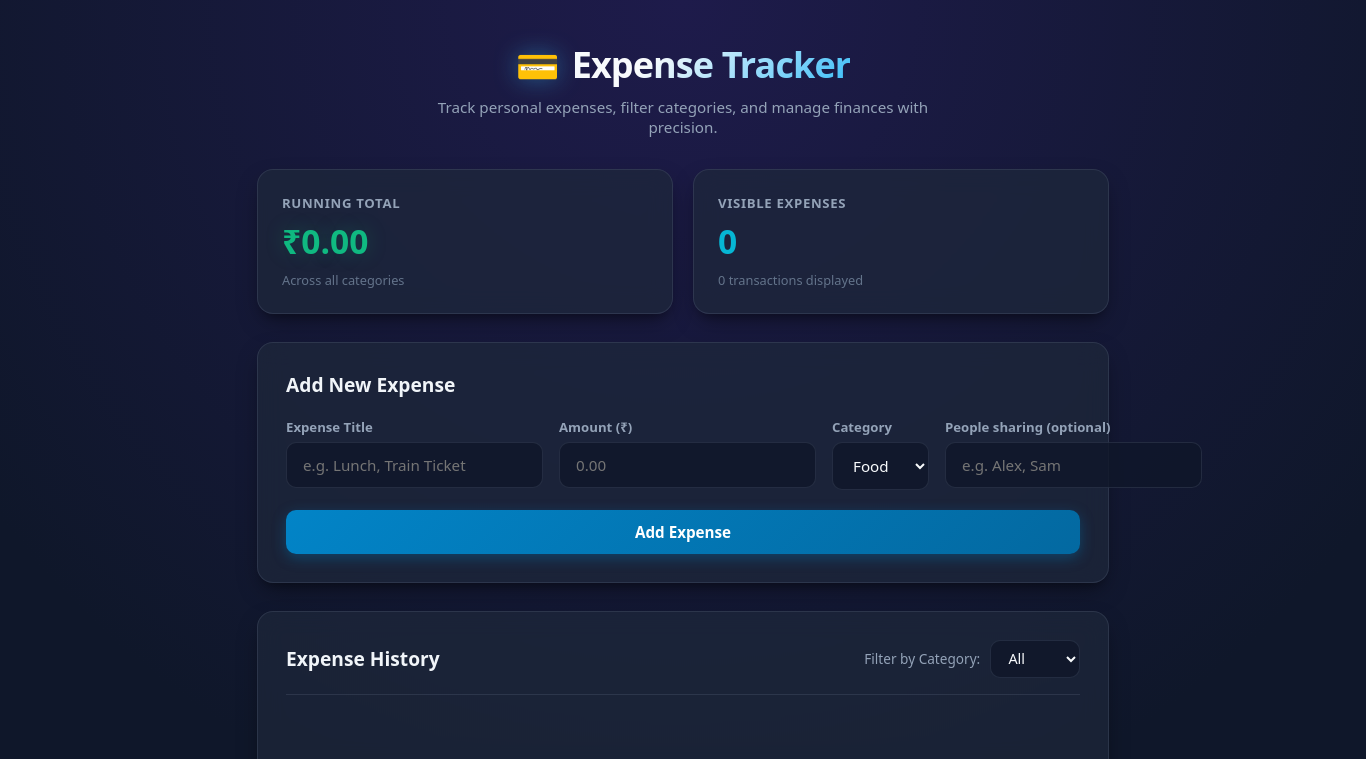
it: Expense tracker - Input validation › rejects an empty title and does not add a row
Type "300" into the number field with test id "amount" at (688, 465), box [559, 442, 816, 488]
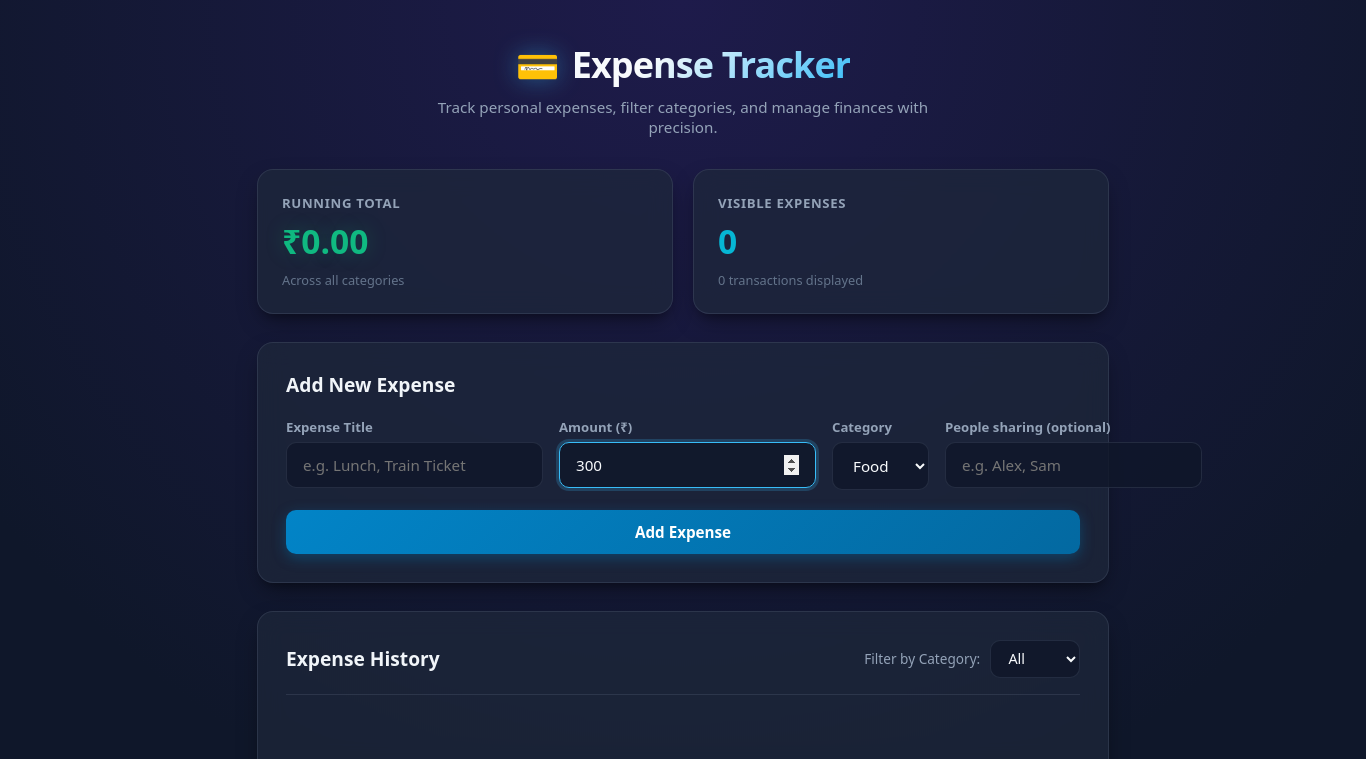
Select "Bills" in the dropdown with test id "category" at (881, 466), box [832, 442, 929, 490]
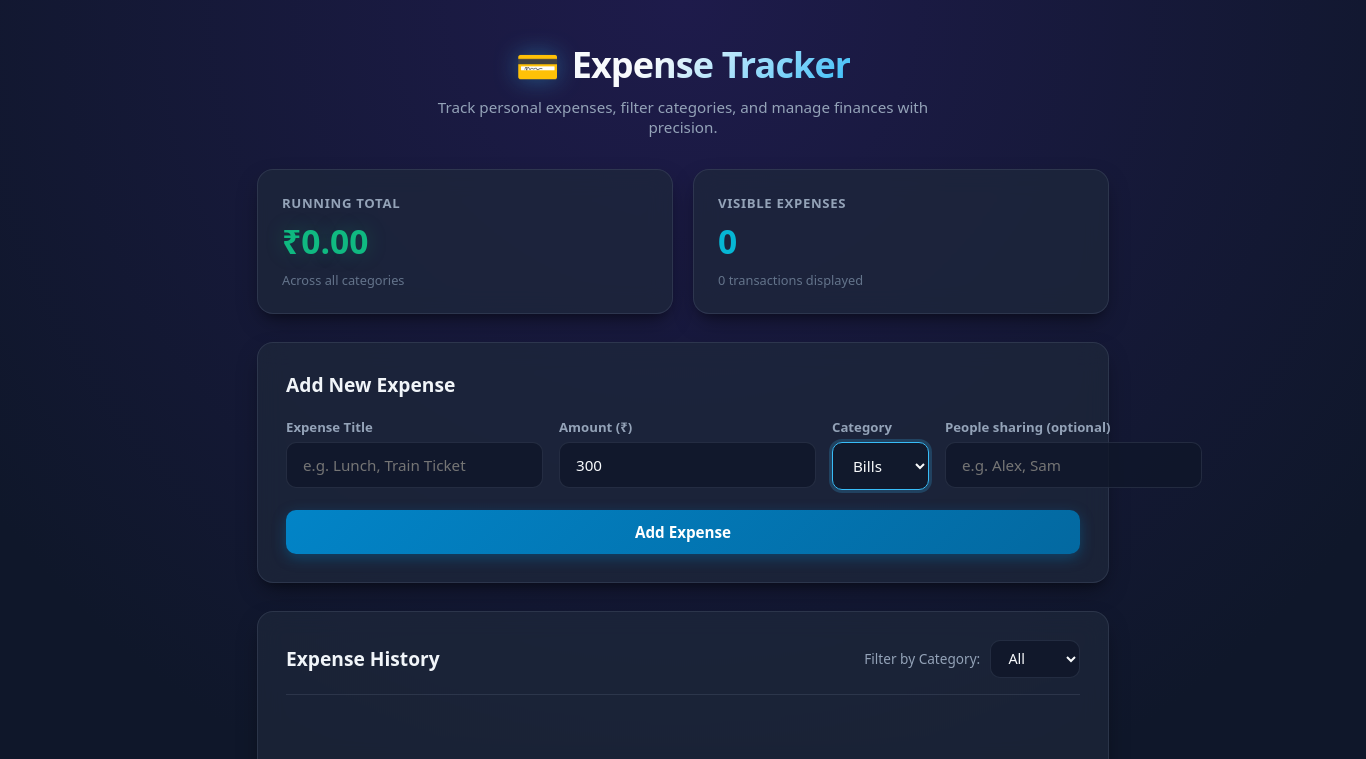
Click the button with test id "add-expense" at (683, 532), box [286, 510, 1080, 554]
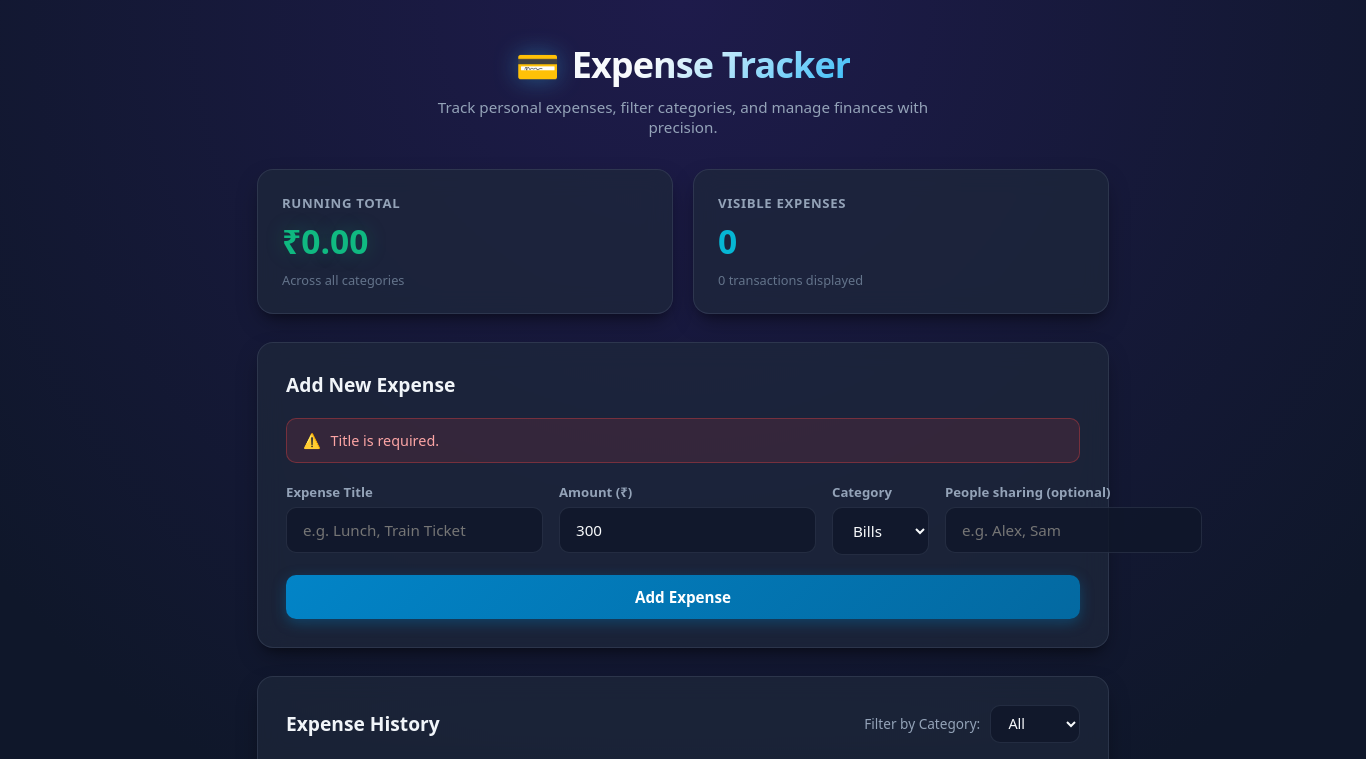
Expected: the text with test id "count" reads "0", [718, 218, 737, 264]
Now the message "⚠️ Title is required." is shown, box [286, 418, 1080, 463]
Now the text with test id "error-message" shows "Title is required", box [331, 431, 440, 450]
